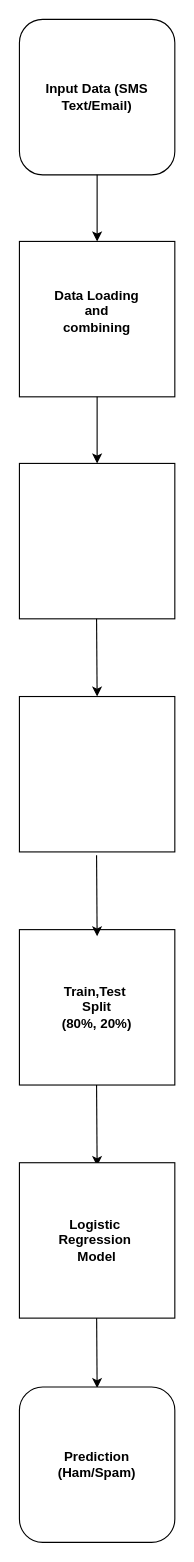
Image size: 194x1562. Some labels were removed from this diagram. The box of each missing label's shape, as (x1, y1, x2, y2) in pixels:
Feature Extraction TF - IDF: (18, 695, 175, 852)
Processing Clean text Remove stop words Lower-case: (18, 462, 175, 619)
